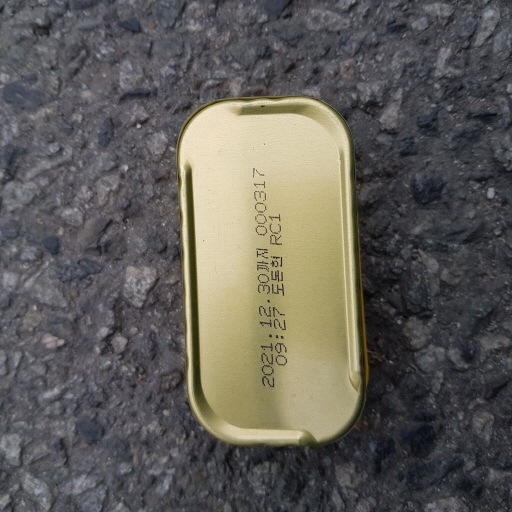Metal_2: (176, 96, 368, 455)
